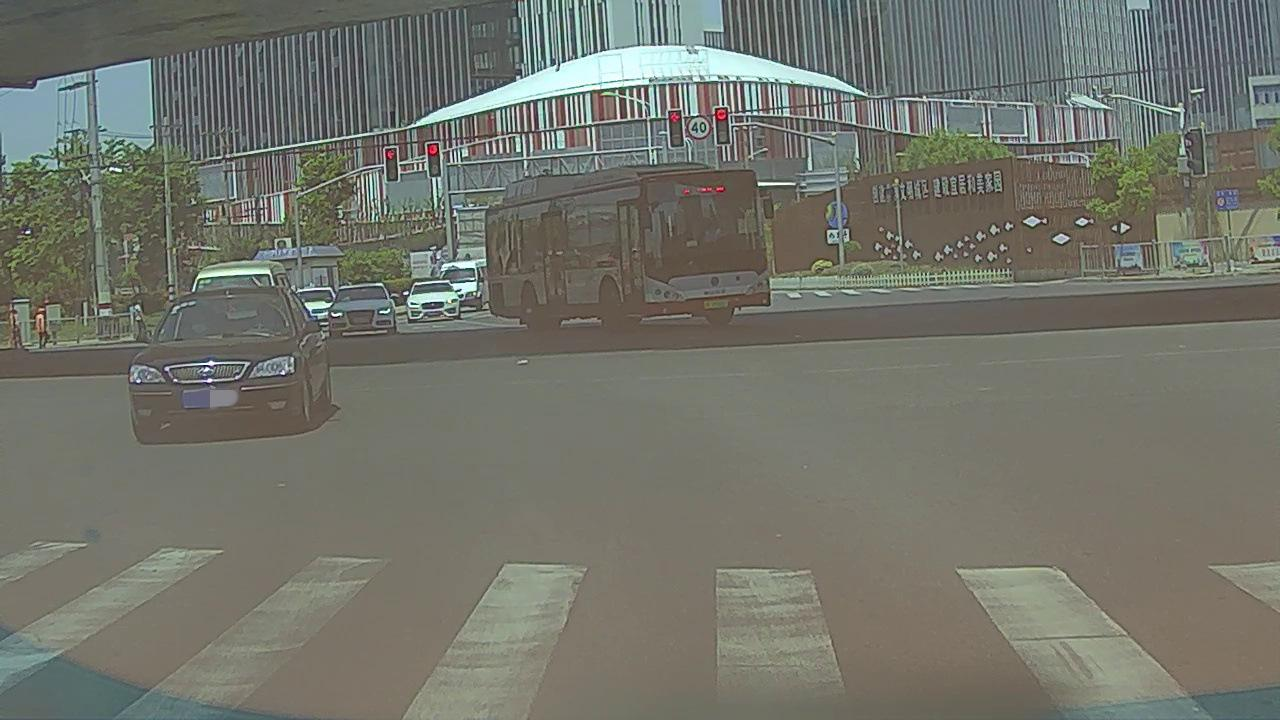traffic_light: (668, 108, 683, 149), (715, 108, 730, 143), (427, 142, 441, 176), (385, 147, 398, 182)
